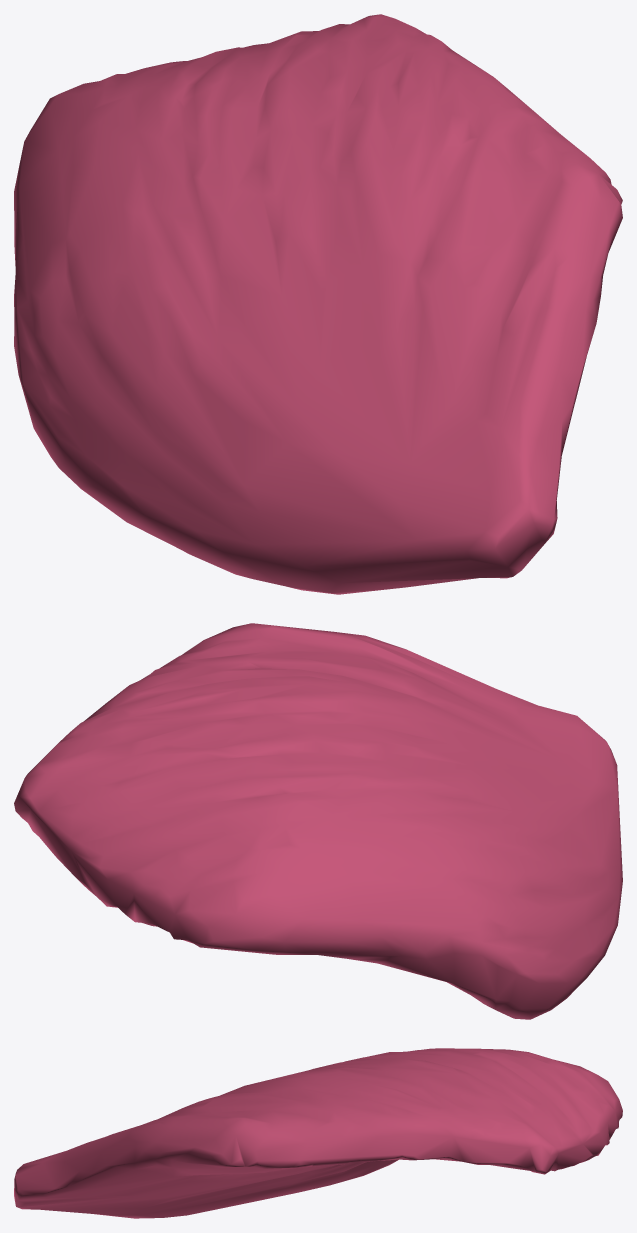
3 views of the same model, one above another, from view 1: azimuth 30°, elevation 25°; view 2: azimuth 150°, elevation 25°; view 3: azimuth 270°, elevation 25° (orthographic). The views are drawn at different scales.
Parts seen in each view (by area): view 1: 右侧环杓后肌; view 2: 右侧环杓后肌; view 3: 右侧环杓后肌.
Part boxes in pixels (x1,y1,x2,y2): 右侧环杓后肌: (14,14,622,594); 右侧环杓后肌: (14,623,622,1019); 右侧环杓后肌: (14,1048,622,1218).
Bounding box in the file's own units: 0.0134 × 0.00845 × 0.0212.
